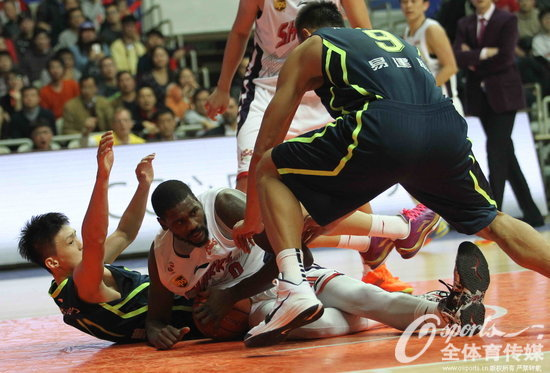10+: (1, 1, 550, 373)
down: (11, 145, 441, 337), (150, 175, 494, 337)
